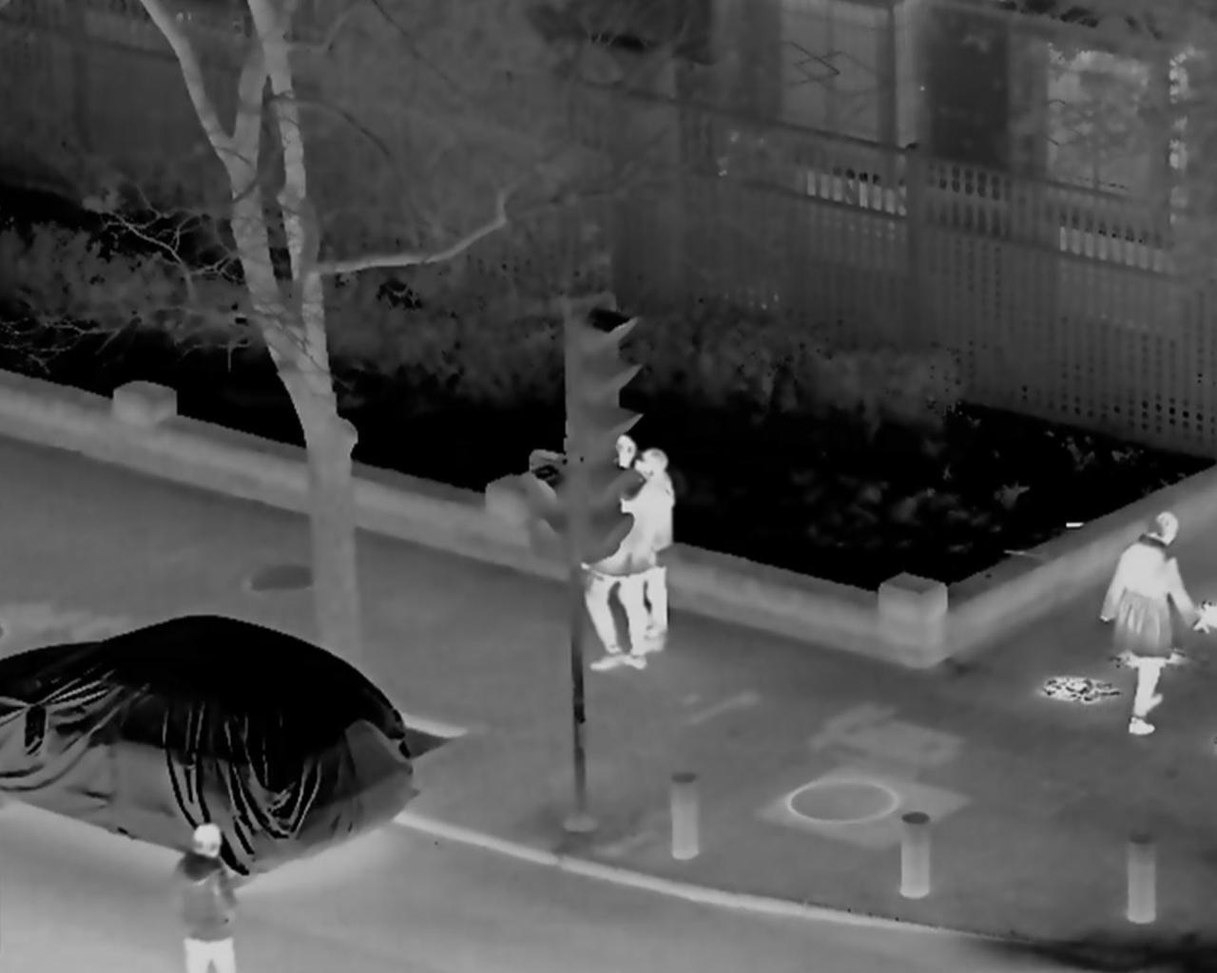person: (1091, 509, 1208, 735), (579, 443, 646, 669), (619, 452, 679, 656), (167, 826, 239, 973)
